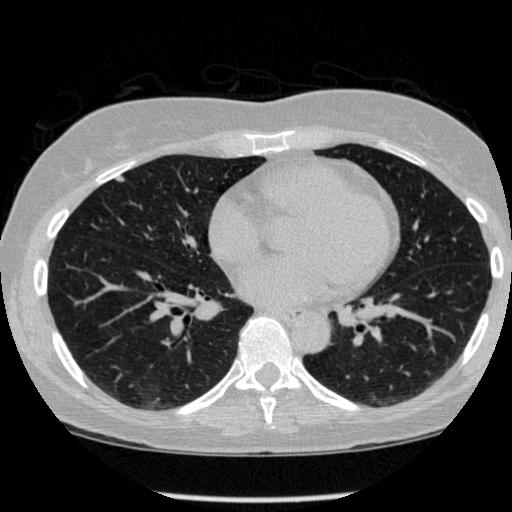nodule: (114, 173, 127, 186)
